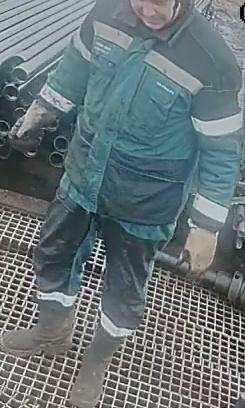gloves: (172, 219, 223, 282), (7, 98, 58, 153)
vest: (58, 0, 242, 227)
